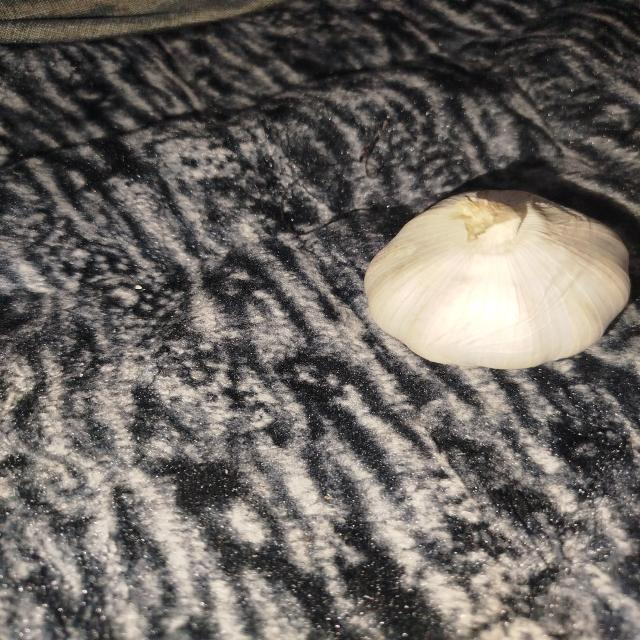garlic: (363, 188, 631, 370)
